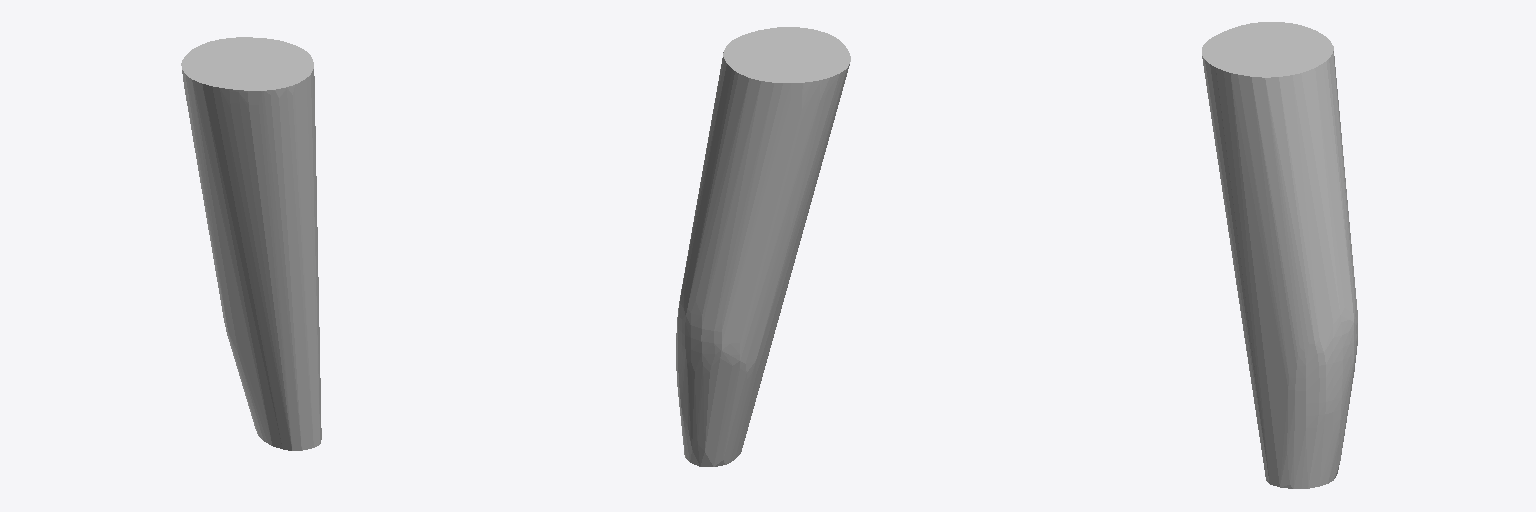
Rendered from woman_collision_1.obj.
The picture shows the model from 3 angles: view 1: azimuth 30°, elevation 25°; view 2: azimuth 150°, elevation 25°; view 3: azimuth 270°, elevation 25°; orthographic projection.
Bounding box in the file's own units: 22.15 × 59.08 × 21.07.